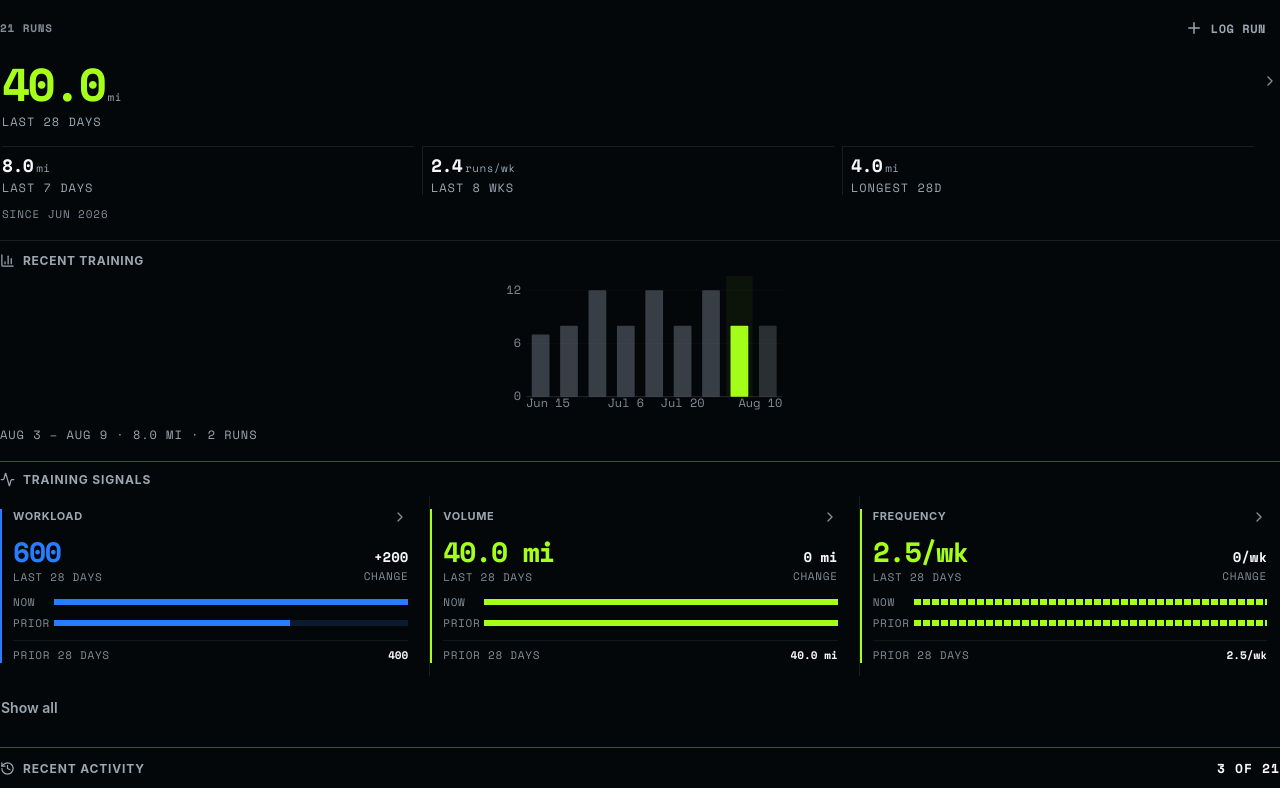
Test: Training Signal detail › states coverage beside a connected-metric comparison
The image size is (1280, 788).
Click the button with aria-label "Workload. Last 28 days": (48, 516) [0,496,421,676]
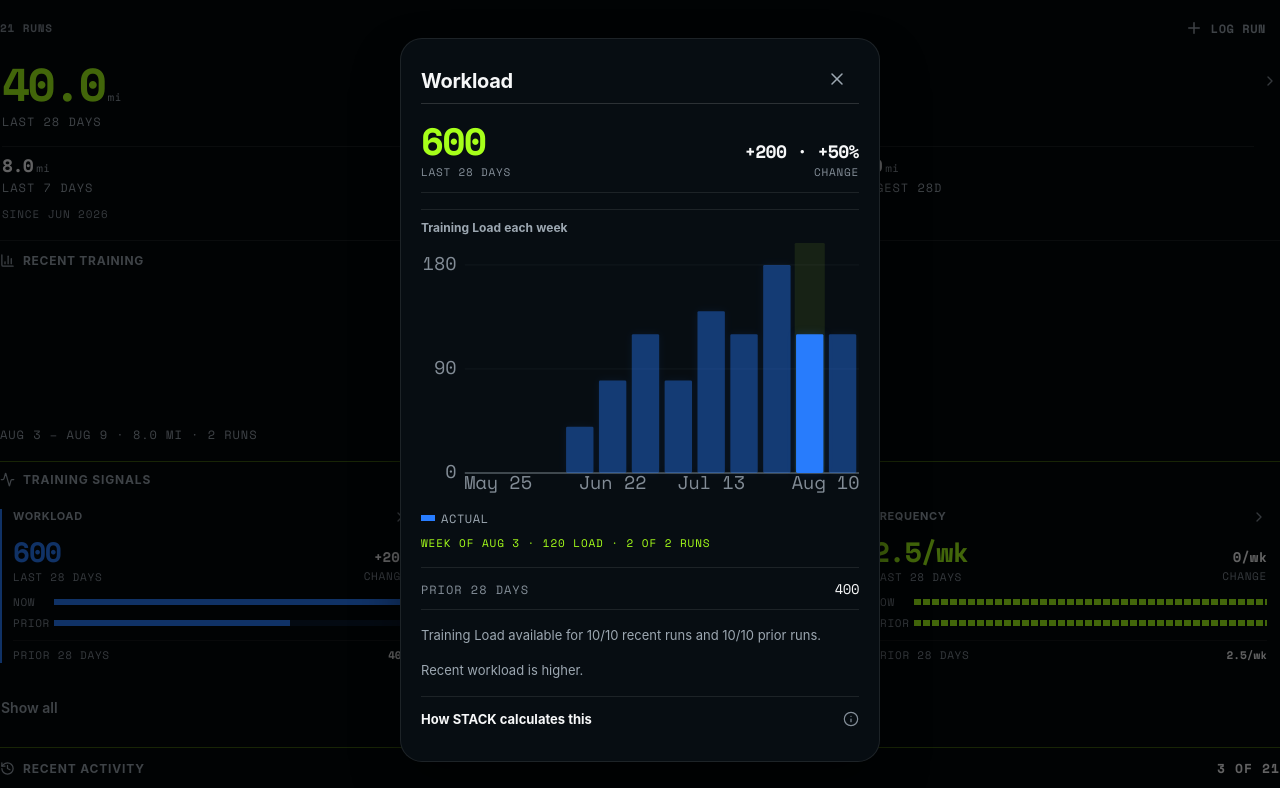
Result: the dialog shows "Training Load available for 10/10 recent runs and 10/10 prior runs" at [400,38,880,762]
Click the heading "How STACK calculates this": (506, 719) [421,711,859,727]
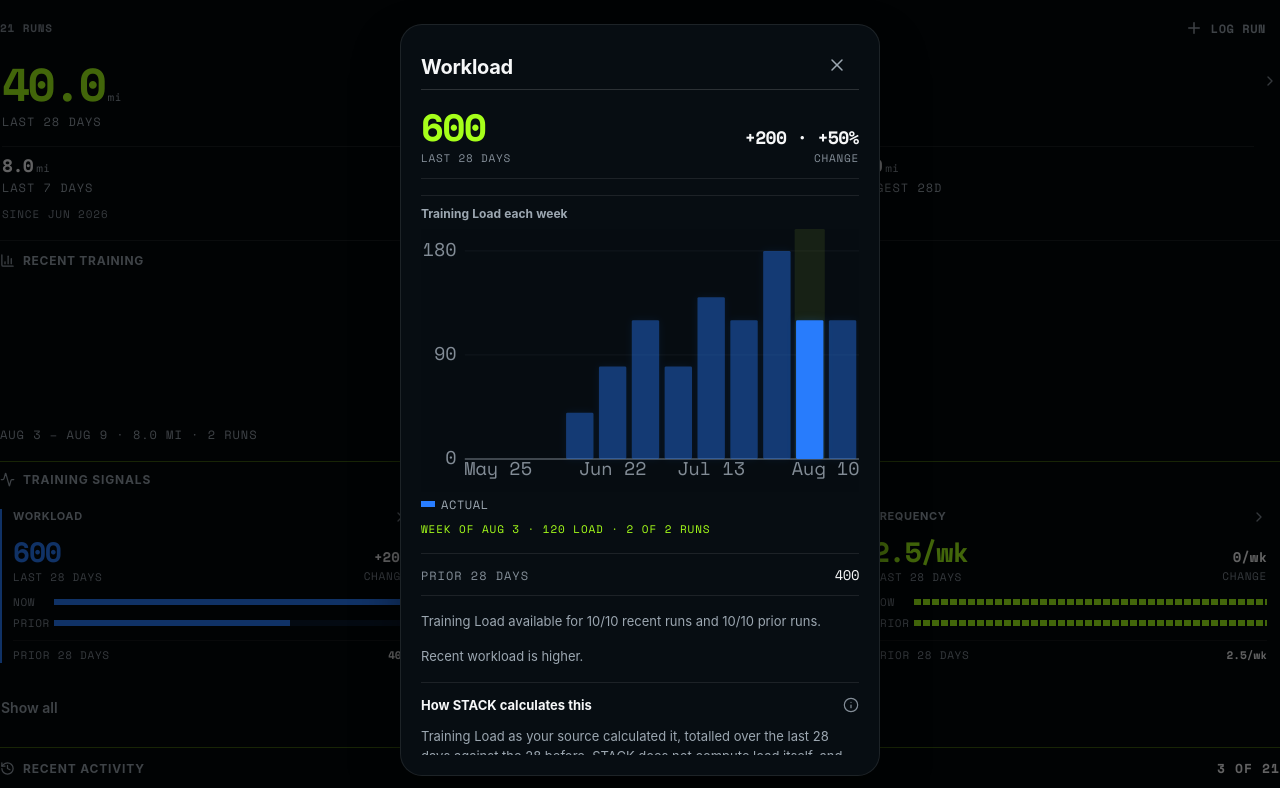
Result: the dialog shows "does not turn it into a readiness or recovery figure" at [421,728,842,783]
